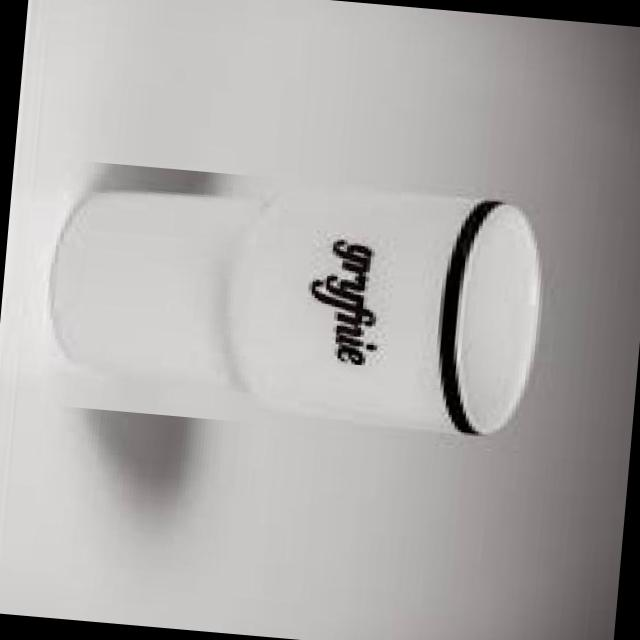Coffee Mug: (42, 165, 550, 442)
